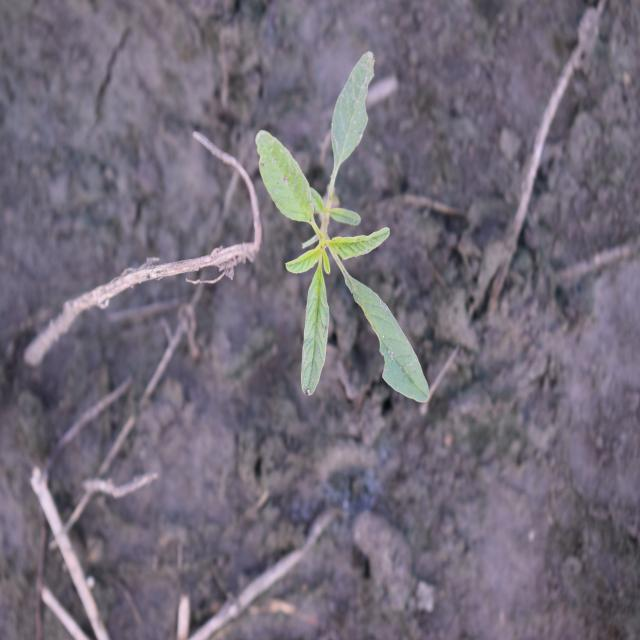Waterhemp: (255, 50, 432, 408)
